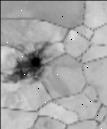good_void: (0, 41, 52, 89), (90, 94, 100, 103), (44, 88, 51, 96)
